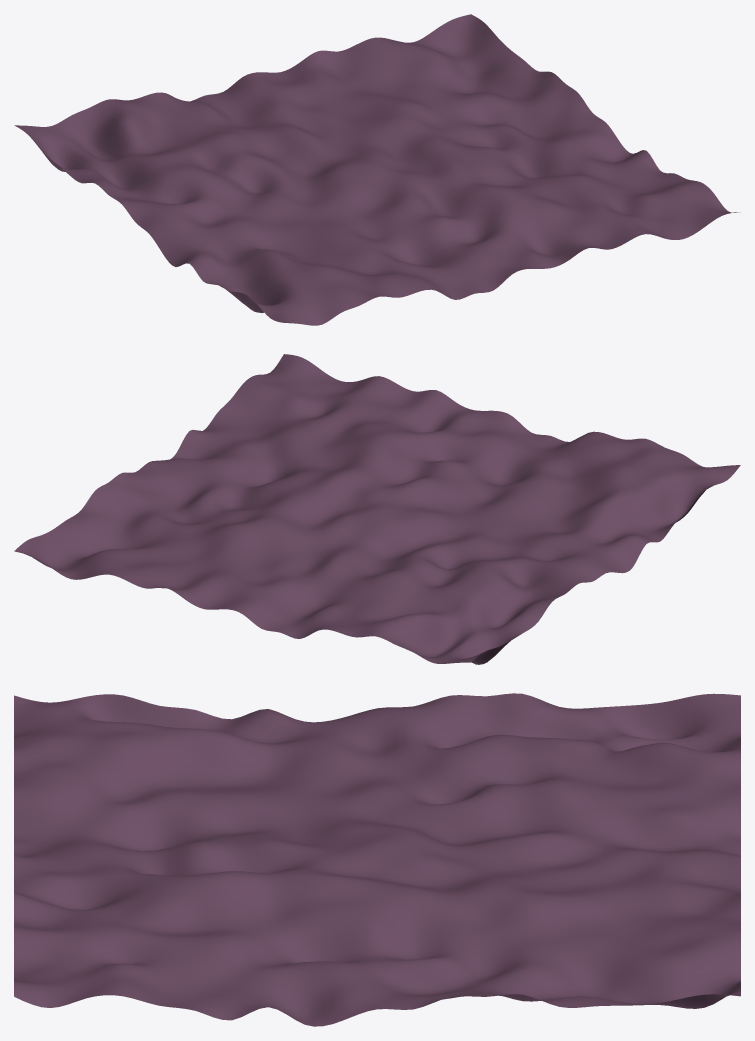
File: terrain.obj
3 views of the same model, one above another, from view 1: azimuth 30°, elevation 25°; view 2: azimuth 150°, elevation 25°; view 3: azimuth 270°, elevation 25° (orthographic). The views are drawn at different scales.
Parts seen in each view (by area): view 1: desert_obj:Plane01; view 2: desert_obj:Plane01; view 3: desert_obj:Plane01.
Boxes of the visible parts, x1,y1,x2,y2 form: desert_obj:Plane01: (14,14,740,325); desert_obj:Plane01: (14,354,740,664); desert_obj:Plane01: (14,693,740,1026).
Bounding box in the file's own units: 404 × 29.56 × 413.
